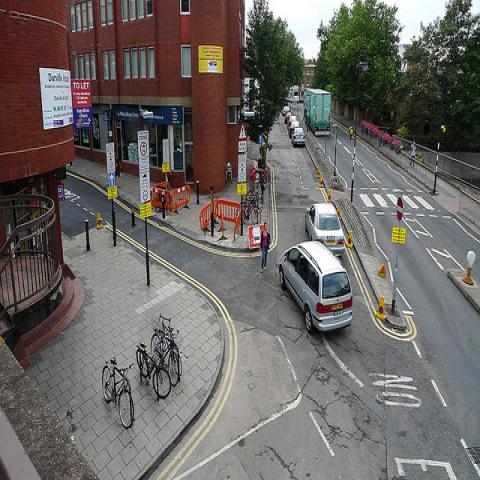car: (275, 239, 357, 337), (304, 201, 346, 257), (291, 127, 306, 146), (287, 115, 297, 132), (290, 120, 298, 134), (281, 106, 289, 116), (285, 112, 291, 124)
truck: (304, 88, 331, 138)
